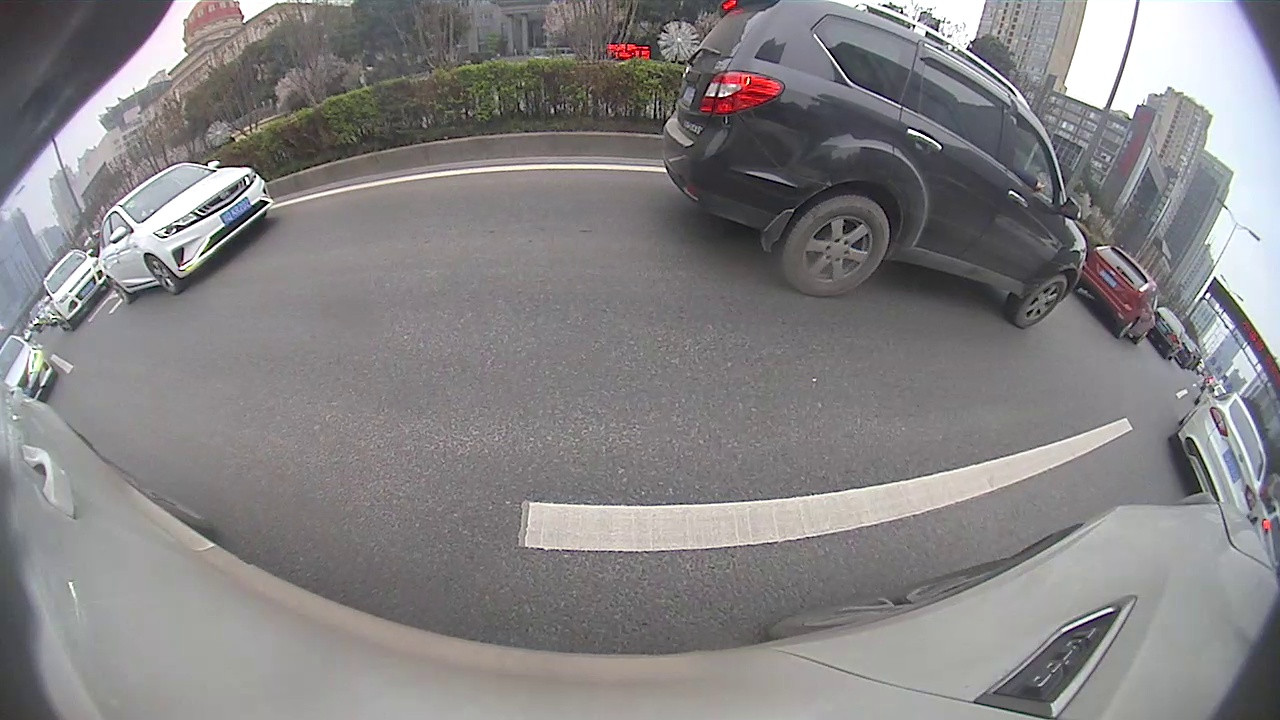car: (662, 3, 1086, 328), (97, 160, 276, 305), (1166, 392, 1267, 519), (1075, 243, 1158, 344), (41, 250, 110, 334), (2, 332, 54, 404), (1143, 306, 1188, 361)
front: (1012, 269, 1068, 330), (148, 253, 183, 295)
rear: (780, 194, 892, 300), (108, 277, 134, 305), (1119, 318, 1138, 343)
